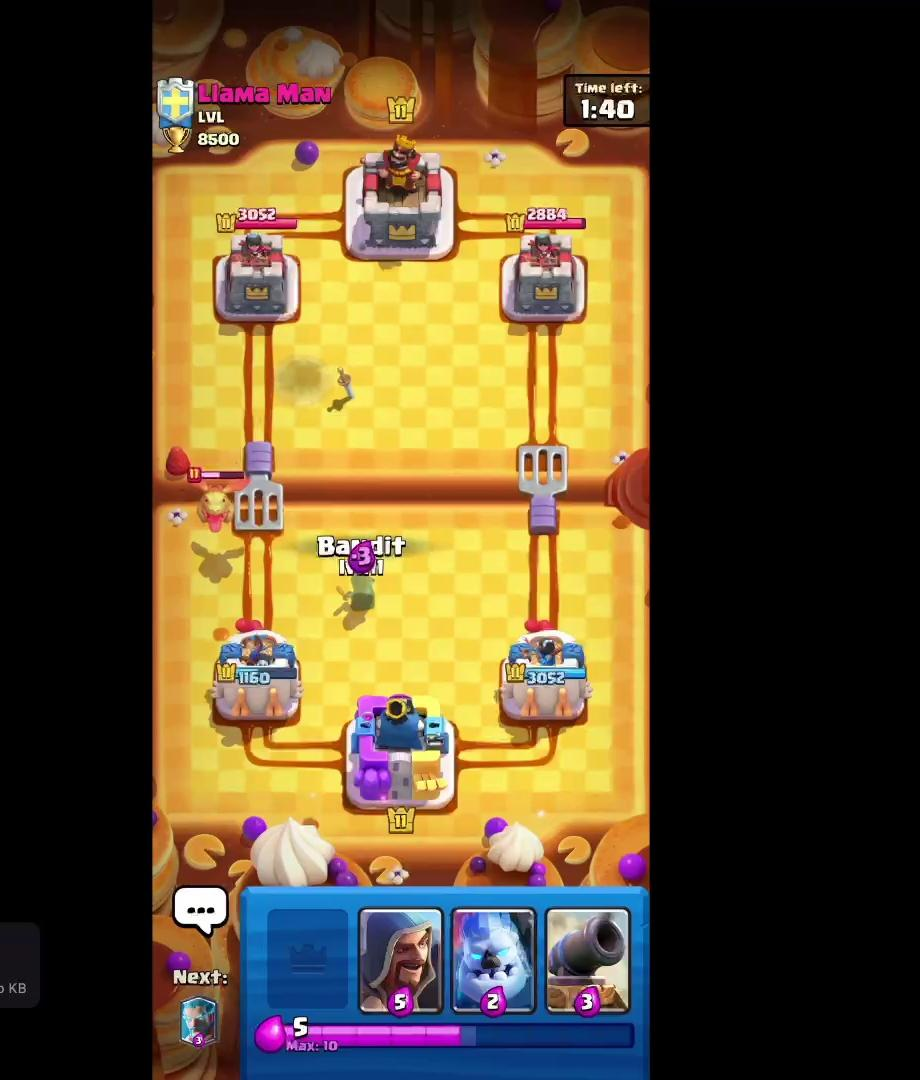Baby Dragon: (186, 465, 247, 536)
